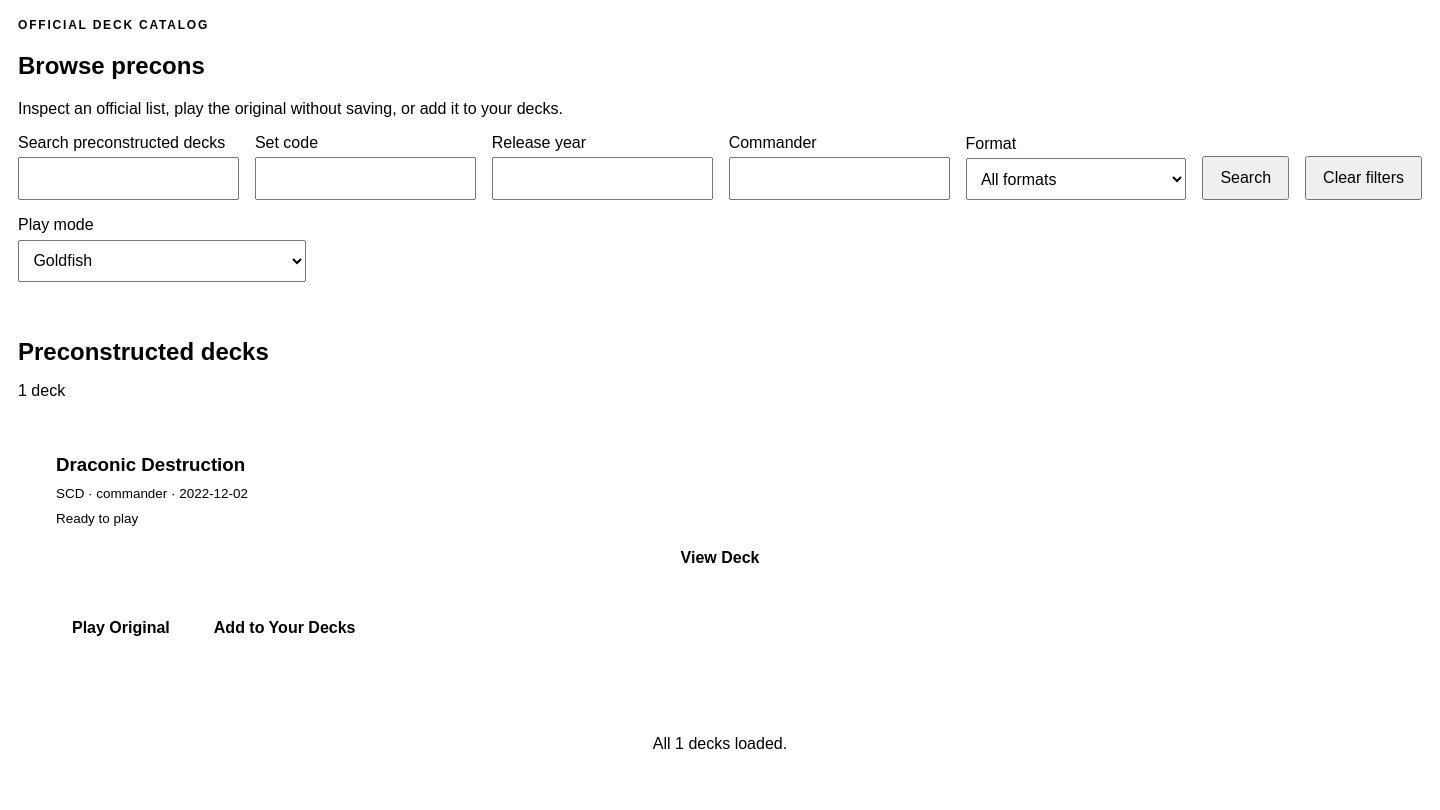
Scenario: catalog action status 401 has actionable guidance
The width and height of the screenshot is (1440, 810).
Click the button "Play Original" at (121,628), box [56,606,186,650]
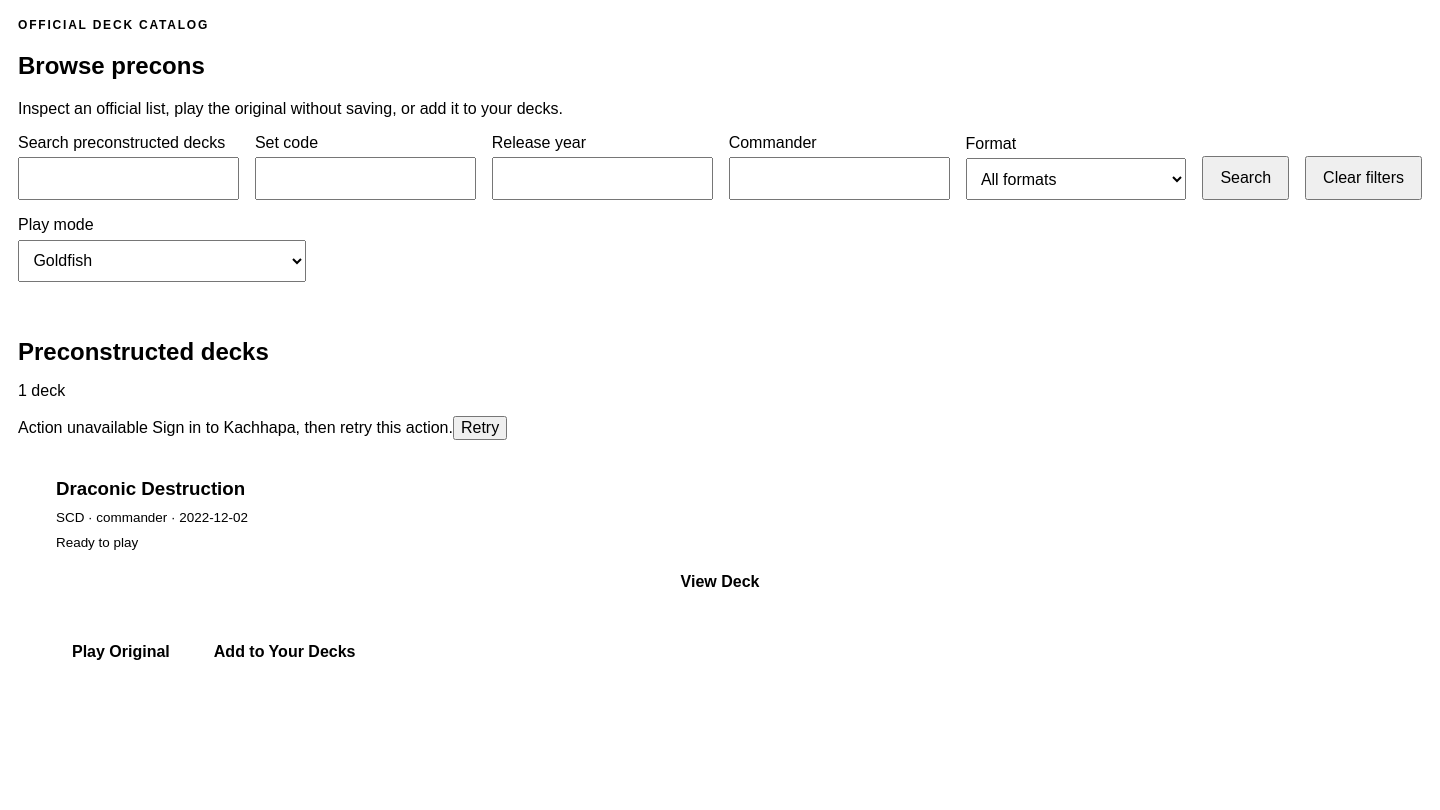
Result: the message shows "Sign in to Kachhapa" at [18,419,453,436]
